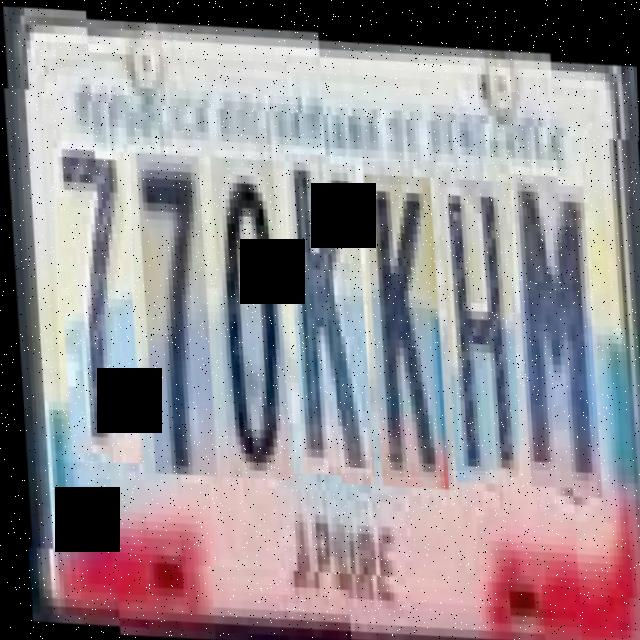7: (52, 146, 137, 463), (135, 150, 212, 473)
H: (436, 162, 518, 470)
K: (283, 147, 370, 473), (362, 158, 444, 476)
M: (510, 156, 596, 473)
O: (209, 152, 288, 477)
